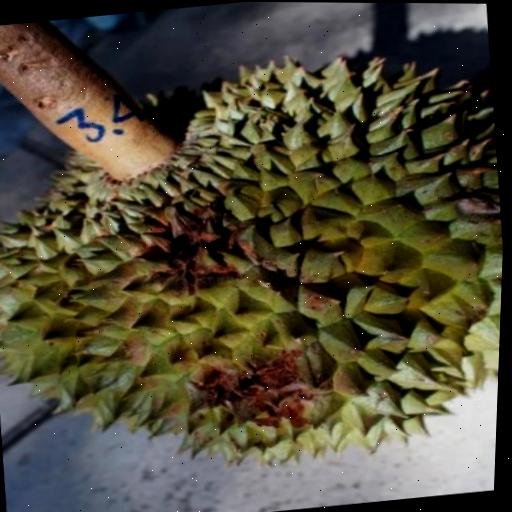rot: (0, 8, 512, 512)
